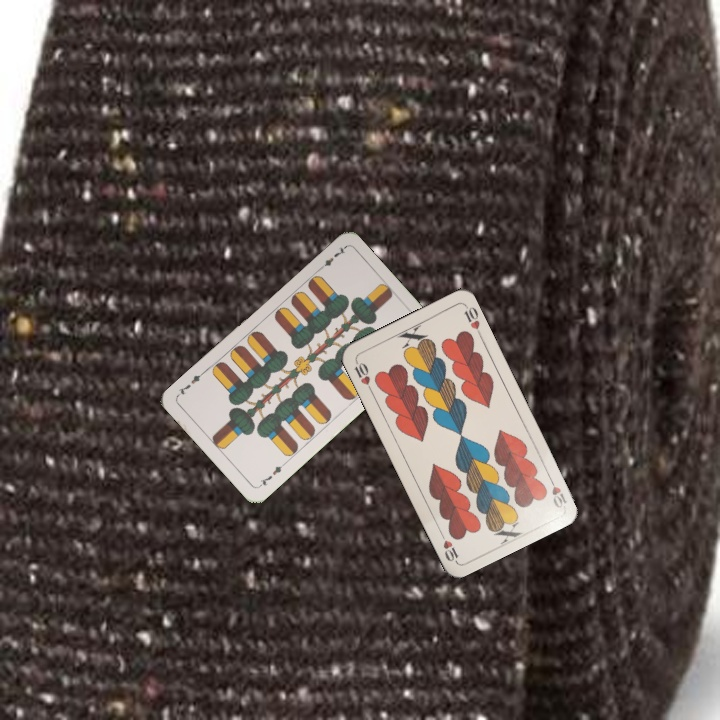E7: (255, 458, 288, 490), (314, 243, 348, 274)
H10: (544, 471, 569, 511), (350, 356, 375, 394)
